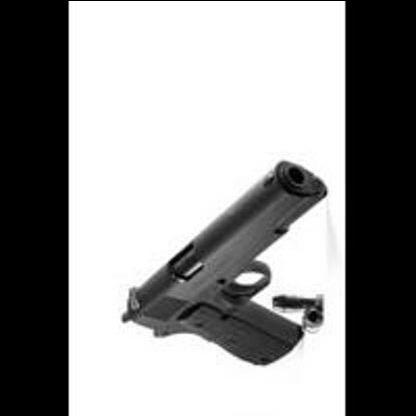weapon: (121, 157, 331, 368)
